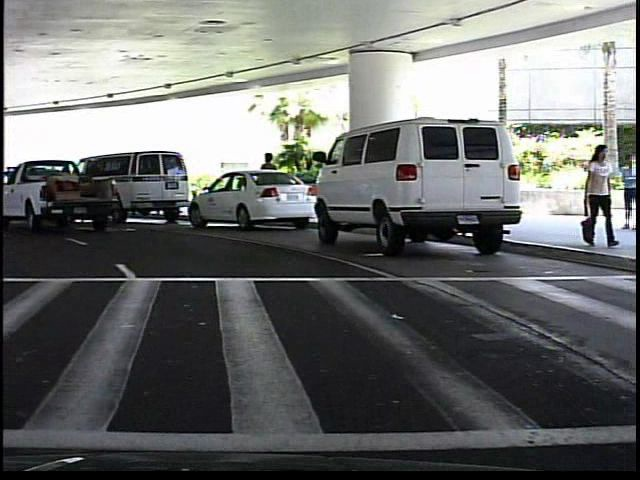person: (579, 140, 613, 250), (617, 154, 640, 235), (257, 148, 283, 215)
